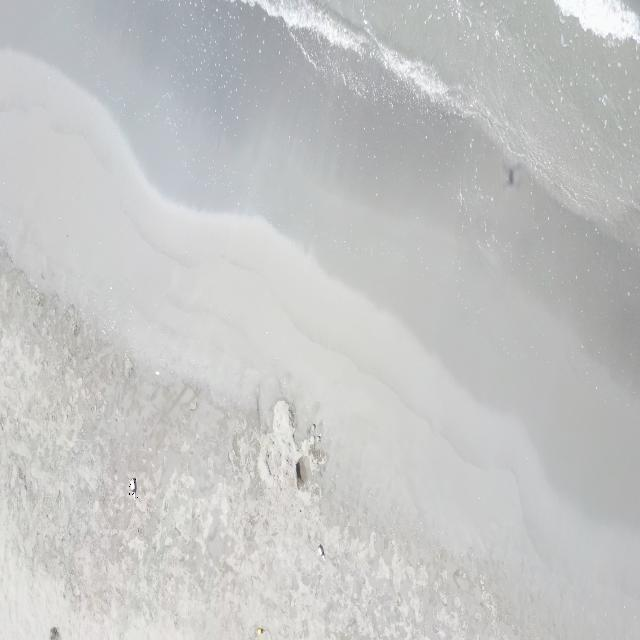glass: (129, 478, 138, 501), (317, 544, 326, 562), (257, 628, 265, 636)
